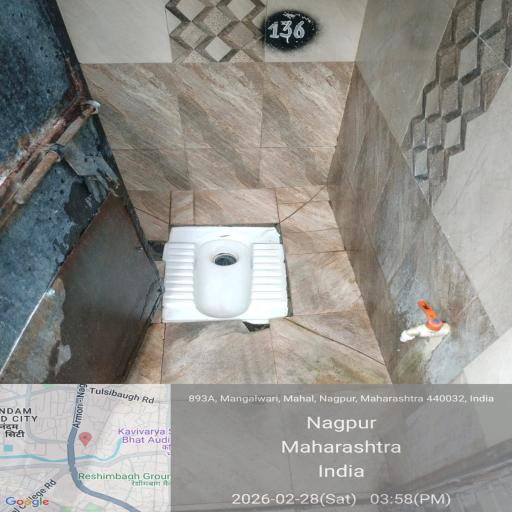clean_floor: (83, 320, 472, 512), (80, 2, 480, 188)
clean_indian: (144, 200, 324, 348)
